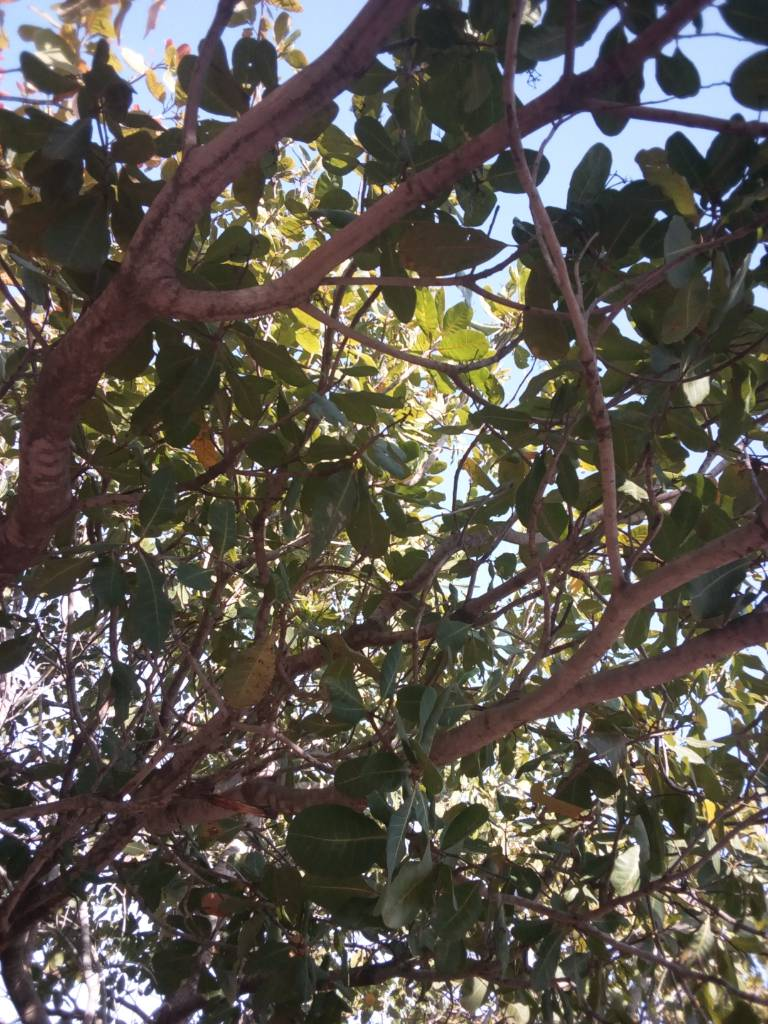Termites: (41, 285, 113, 427)
